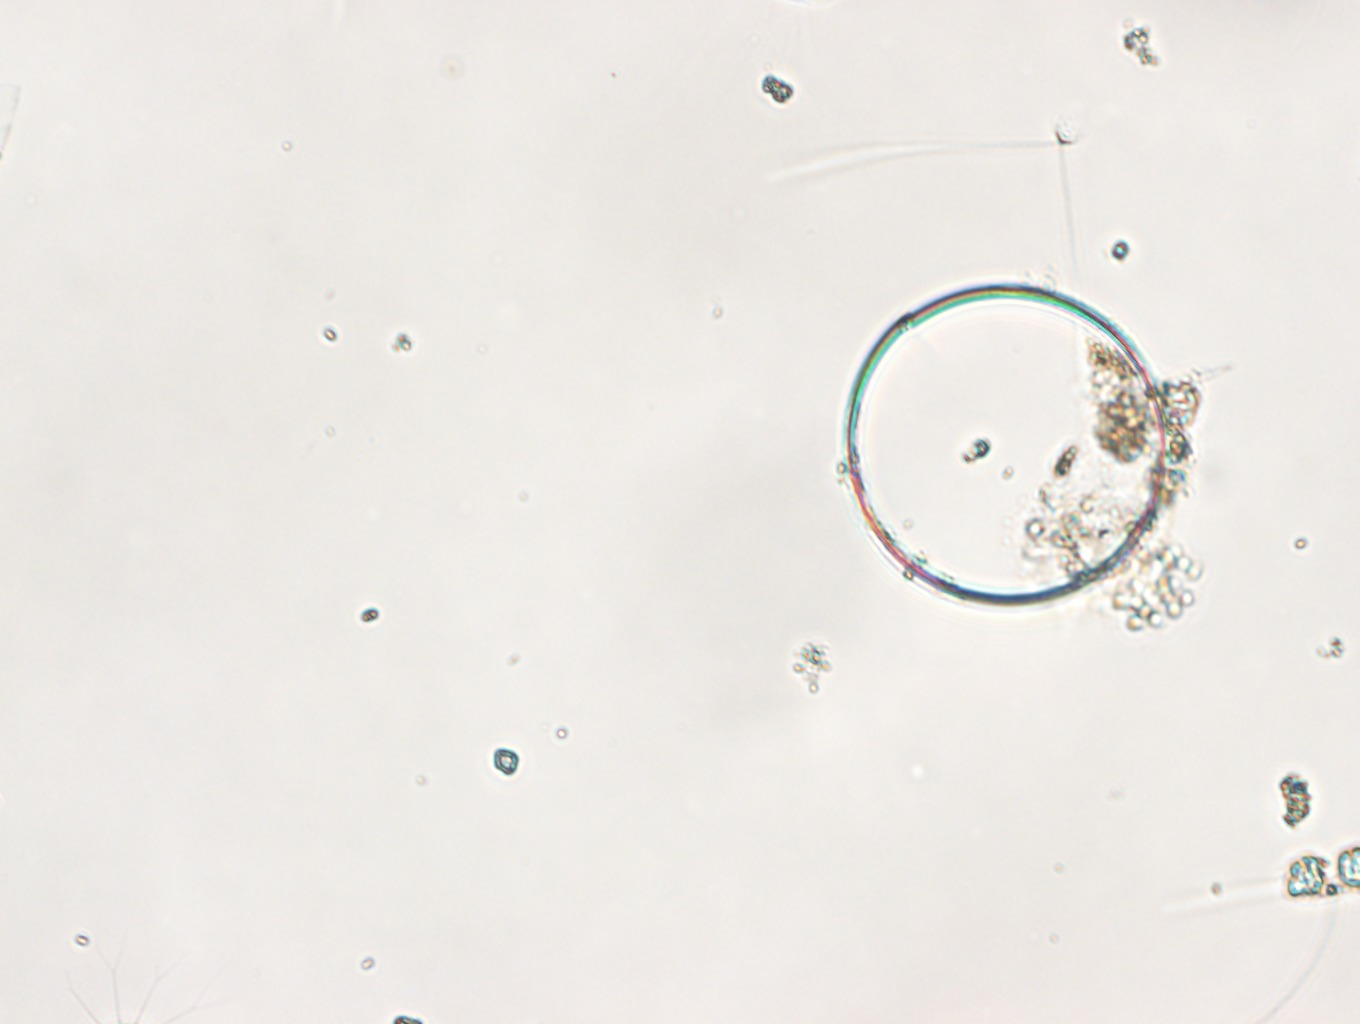coscinodiscus: (843, 281, 1168, 610)
